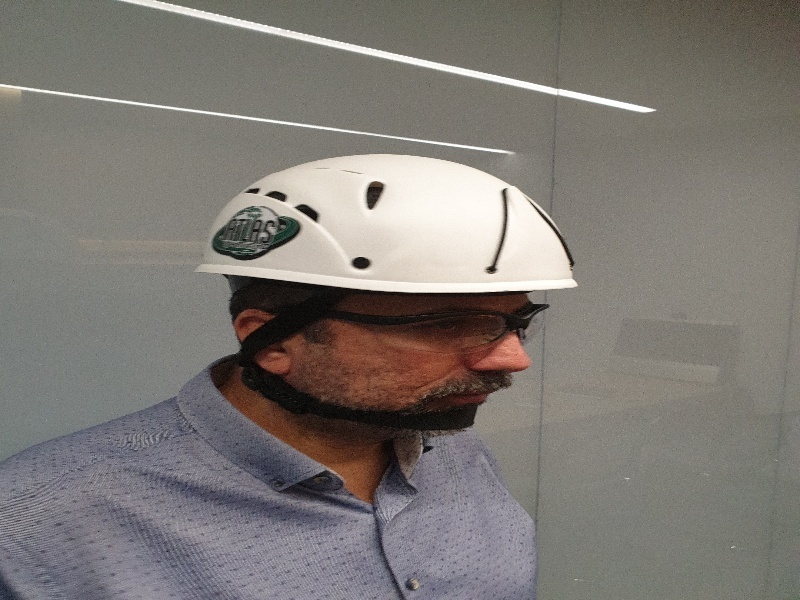Baret: (195, 152, 581, 297)
Gozluk: (283, 304, 554, 345)
